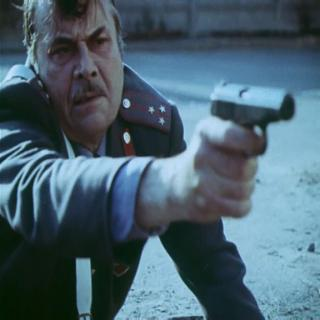gun: (201, 69, 298, 230)
